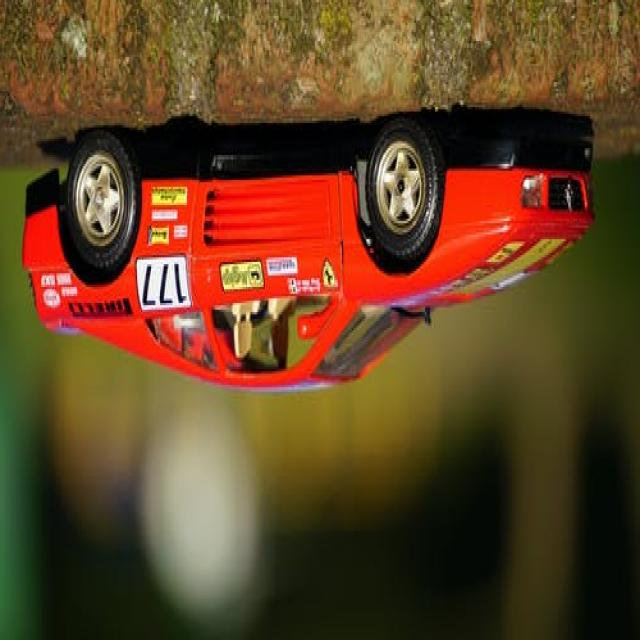Car: (22, 114, 596, 394)
